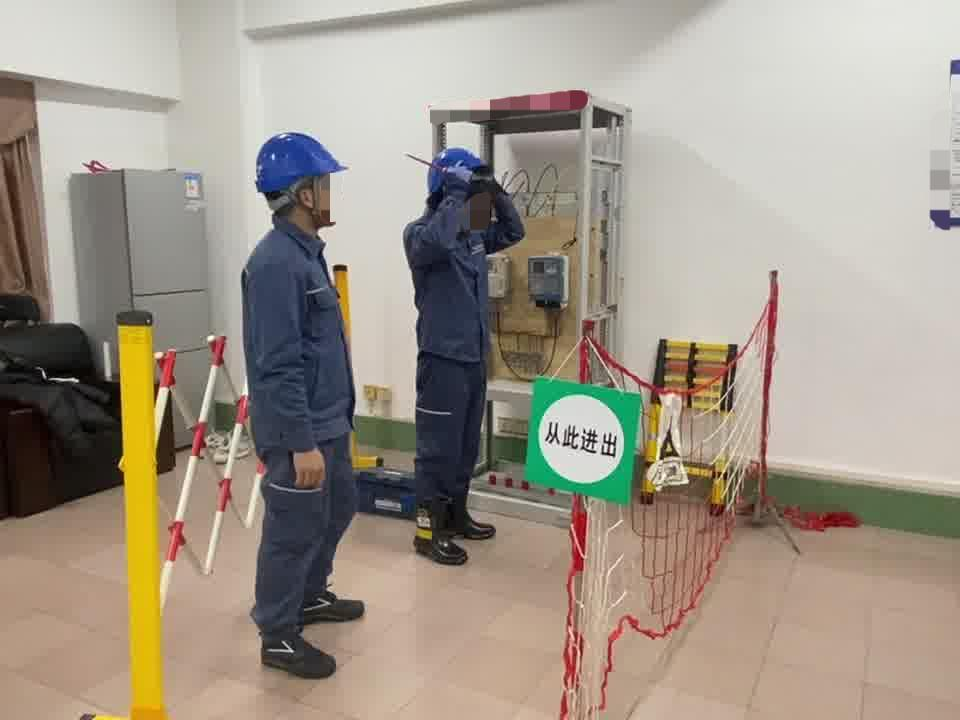halt: (256, 133, 350, 234)
inear: (289, 183, 324, 222)
